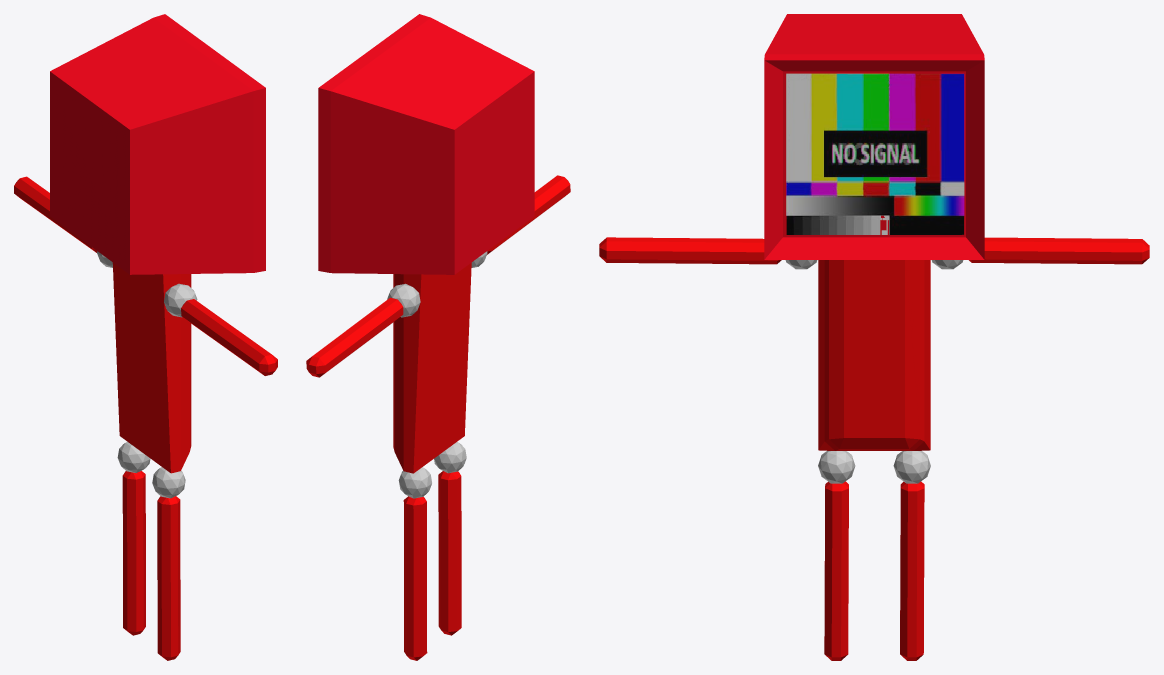
The model's file is Itbegins.obj.
3 views of the same model, side by side, from view 1: azimuth 30°, elevation 25°; view 2: azimuth 150°, elevation 25°; view 3: azimuth 270°, elevation 25° (orthographic). The views are drawn at different scales.
Parts seen in each view (by area): view 1: HeadBox_Cube.002, MainBody_Cube, RightLeg_Cube.005, LeftLeg_Cube.008, LeftArm.001_Cube.009, LeftArm_Cube.003, RightHip_Icosphere.002, RightShoulder_Icosphere.001, LeftHip_Icosphere.004; view 2: HeadBox_Cube.002, MainBody_Cube, RightLeg_Cube.005, LeftLeg_Cube.008, LeftArm_Cube.003, LeftArm.001_Cube.009, LeftHip_Icosphere.004, RightHip_Icosphere.002, LeftShoulder_Icosphere; view 3: HeadBox_Cube.002, MainBody_Cube, LeftArm.001_Cube.009, LeftArm_Cube.003, LeftLeg_Cube.008, RightLeg_Cube.005, RightHip_Icosphere.002, LeftHip_Icosphere.004.
Boxes of the visible parts, x1,y1,x2,y2 form: HeadBox_Cube.002: [50, 14, 265, 274]; MainBody_Cube: [112, 262, 191, 473]; RightLeg_Cube.005: [157, 496, 180, 660]; LeftLeg_Cube.008: [122, 471, 145, 635]; LeftArm.001_Cube.009: [181, 299, 277, 375]; LeftArm_Cube.003: [14, 176, 97, 252]; RightHip_Icosphere.002: [152, 467, 185, 498]; RightShoulder_Icosphere.001: [164, 283, 197, 317]; LeftHip_Icosphere.004: [117, 442, 150, 472]; HeadBox_Cube.002: [318, 14, 534, 274]; MainBody_Cube: [393, 262, 471, 473]; RightLeg_Cube.005: [438, 471, 461, 635]; LeftLeg_Cube.008: [403, 496, 427, 660]; LeftArm_Cube.003: [306, 297, 403, 377]; LeftArm.001_Cube.009: [487, 175, 570, 254]; LeftHip_Icosphere.004: [398, 467, 431, 498]; RightHip_Icosphere.002: [434, 442, 466, 473]; LeftShoulder_Icosphere: [387, 283, 420, 317]; HeadBox_Cube.002: [764, 14, 984, 259]; MainBody_Cube: [818, 260, 930, 450]; LeftArm.001_Cube.009: [599, 237, 781, 264]; LeftArm_Cube.003: [969, 237, 1149, 264]; LeftLeg_Cube.008: [900, 481, 924, 660]; RightLeg_Cube.005: [824, 481, 848, 660]; RightHip_Icosphere.002: [818, 451, 855, 483]; LeftHip_Icosphere.004: [893, 451, 930, 483].
Bounding box in the file's own units: 1.26 × 5.55 × 4.37.
3 materials, 1 textured.
